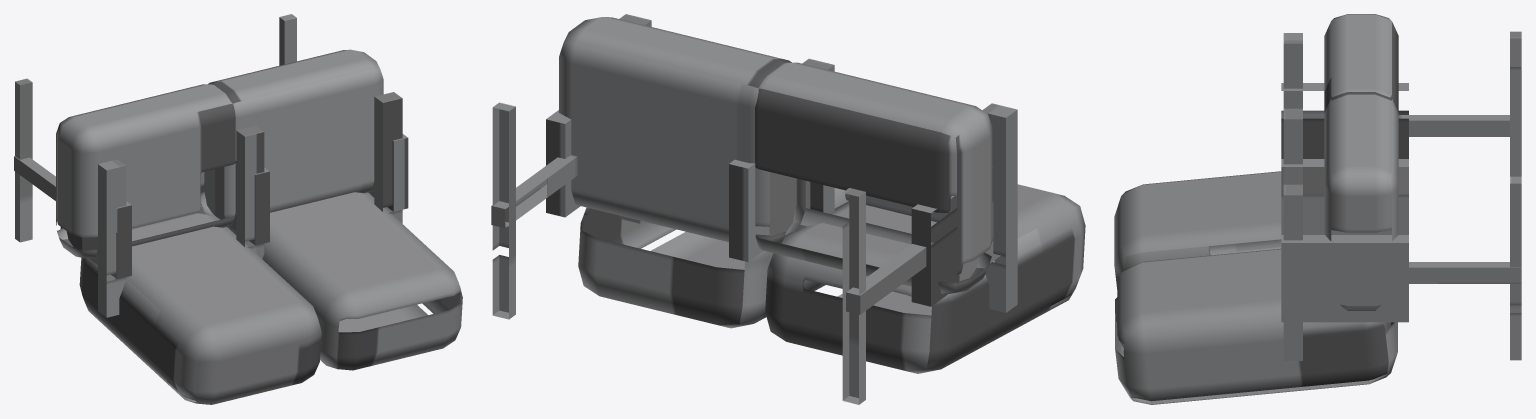
3 views of the same model, side by side, from view 1: azimuth 30°, elevation 25°; view 2: azimuth 150°, elevation 25°; view 3: azimuth 270°, elevation 25° (orthographic). The views are drawn at different scales.
Bounding box in the file's own units: 1.04 × 0.7002 × 1.04.
